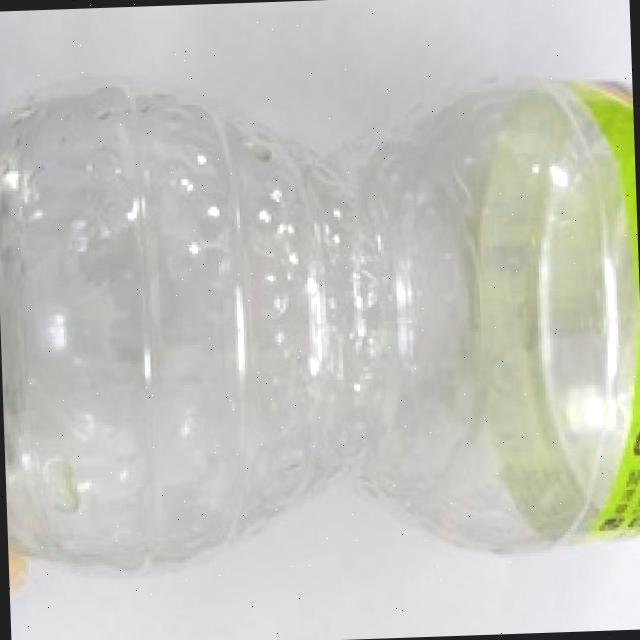bottle: (0, 50, 640, 569)
